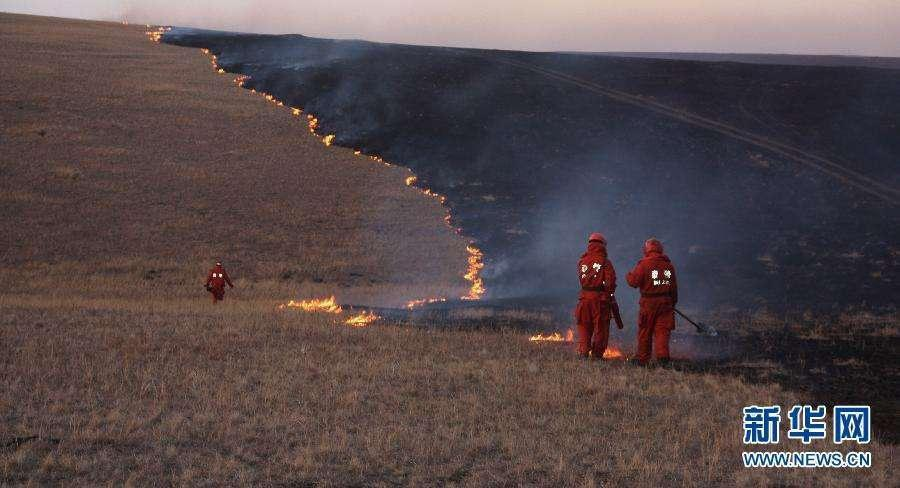fire: (456, 240, 489, 304), (290, 105, 335, 149), (278, 292, 345, 312), (523, 326, 575, 346), (141, 17, 173, 43), (401, 295, 451, 311), (341, 309, 379, 330), (202, 44, 225, 74), (425, 184, 449, 208), (233, 75, 259, 95), (399, 170, 417, 191), (444, 213, 462, 234), (370, 151, 392, 166), (603, 348, 621, 360), (349, 143, 363, 158), (264, 91, 280, 103)
